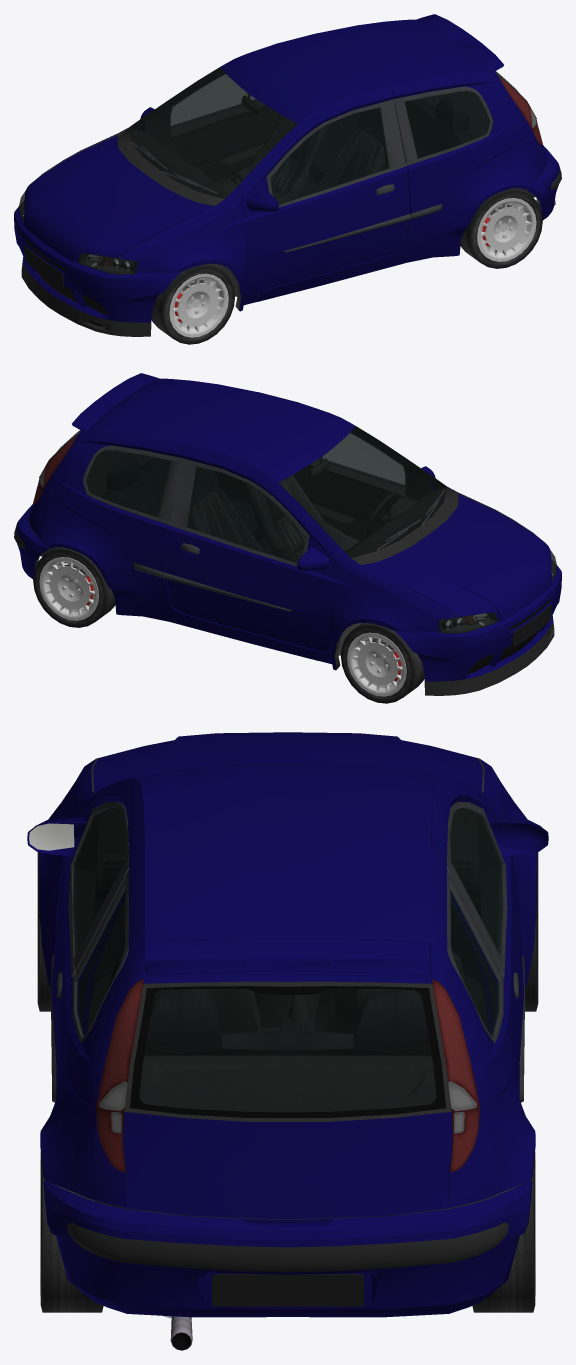
The picture shows the model from 3 angles, top to bottom: view 1: azimuth 30°, elevation 25°; view 2: azimuth 150°, elevation 25°; view 3: azimuth 270°, elevation 25°; orthographic projection. The views are drawn at different scales.
Parts seen in each view (by area): view 1: bodyshell, bodyshell_glass, door, interior, hood, door_glass, fender_front, door_interior001, bumper_front, bodyshell_platform, door_trim, rim001 (+13 smaller); view 2: bodyshell, bodyshell_glass, door002, interior, hood, door_glass001, fender_front001, bumper_front, door_interior, bodyshell_platform, door_trim001, rim002 (+13 smaller); view 3: bodyshell, interior, trunk_door, trunk_door_glass, bumper_rear, bumper_rear_trim, hood, backlights, bodyshell_glass, trunk_door_glassrim, door002, door (+18 smaller).
Part boxes in pixels (left/top/right/bottom): bodyshell: left=220, top=19, right=547, bottom=301; bodyshell_glass: left=129, top=67, right=489, bottom=198; door: left=239, top=85, right=409, bottom=293; interior: left=129, top=67, right=488, bottom=203; hood: left=23, top=135, right=213, bottom=262; door_glass: left=270, top=107, right=388, bottom=204; fender_front: left=119, top=185, right=259, bottom=311; door_interior001: left=144, top=33, right=317, bottom=180; bumper_front: left=14, top=206, right=180, bottom=322; bodyshell_platform: left=39, top=86, right=540, bottom=301; door_trim: left=266, top=99, right=410, bottom=252; rim001: left=477, top=198, right=536, bottom=261; bodyshell: left=28, top=378, right=355, bottom=660; bodyshell_glass: left=86, top=426, right=446, bottom=557; door002: left=166, top=444, right=336, bottom=652; interior: left=87, top=426, right=446, bottom=562; hood: left=361, top=494, right=552, bottom=621; door_glass001: left=187, top=466, right=305, bottom=563; fender_front001: left=316, top=544, right=456, bottom=670; bumper_front: left=395, top=565, right=561, bottom=681; door_interior: left=258, top=392, right=431, bottom=539; bodyshell_platform: left=35, top=445, right=536, bottom=660; door_trim001: left=165, top=458, right=309, bottom=611; rim002: left=39, top=557, right=98, bottom=620; bodyshell: left=40, top=763, right=535, bottom=1219; interior: left=79, top=808, right=496, bottom=1112; trunk_door: left=123, top=938, right=452, bottom=1219; trunk_door_glass: left=139, top=989, right=436, bottom=1111; bumper_rear: left=43, top=1180, right=532, bottom=1317; bumper_rear_trim: left=67, top=1222, right=508, bottom=1306; hood: left=93, top=732, right=482, bottom=792; backlights: left=96, top=979, right=479, bottom=1172; bodyshell_glass: left=76, top=888, right=499, bottom=1037; trunk_door_glassrim: left=129, top=986, right=445, bottom=1117; door002: left=431, top=778, right=524, bottom=1062; door: left=51, top=778, right=144, bottom=1060.
Bounding box in the file's own units: 151 × 55.94 × 70.15.
